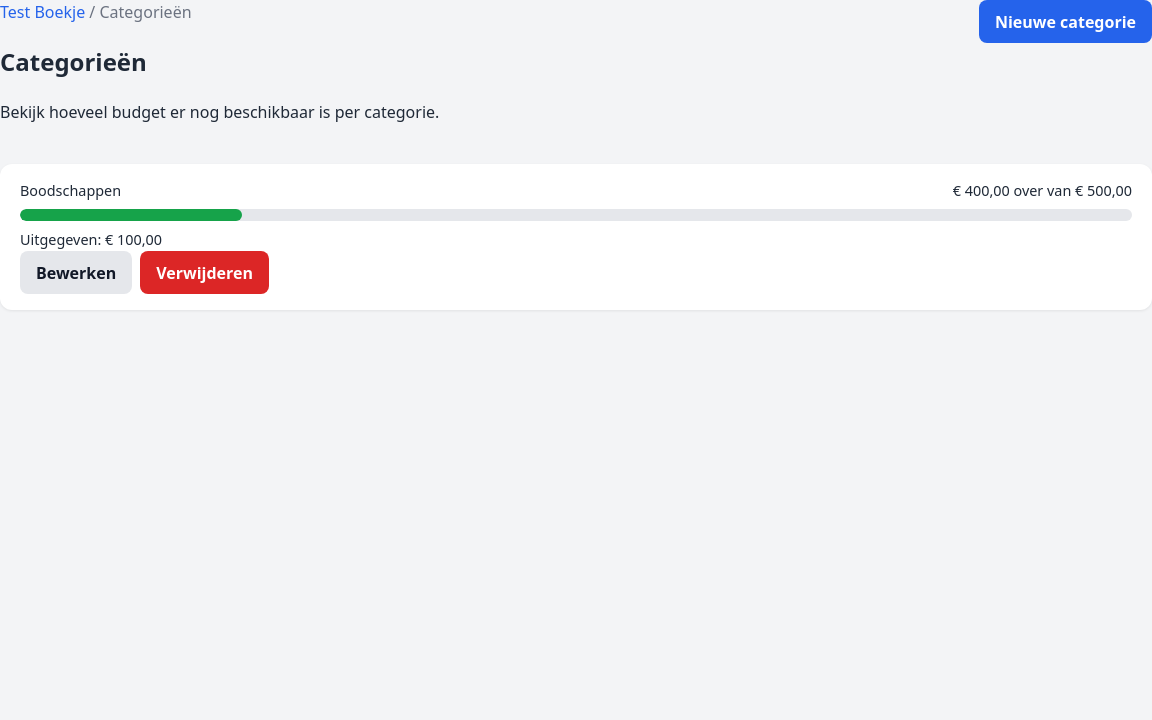
Test case: CategoriesPage › opens category form modal
The width and height of the screenshot is (1152, 720).
Step 1. Click the button "Nieuwe categorie" → (1065, 22), box [979,0,1151,43]
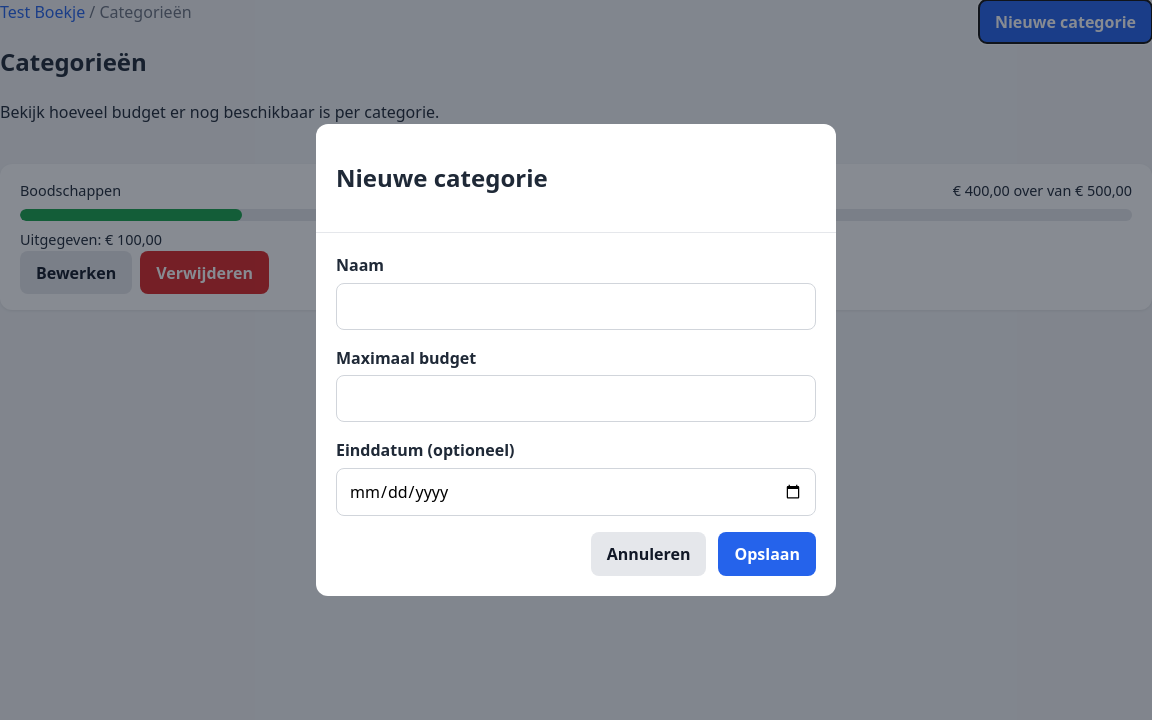
Check: the heading "Nieuwe categorie" is shown, box [336,160,548,196]
